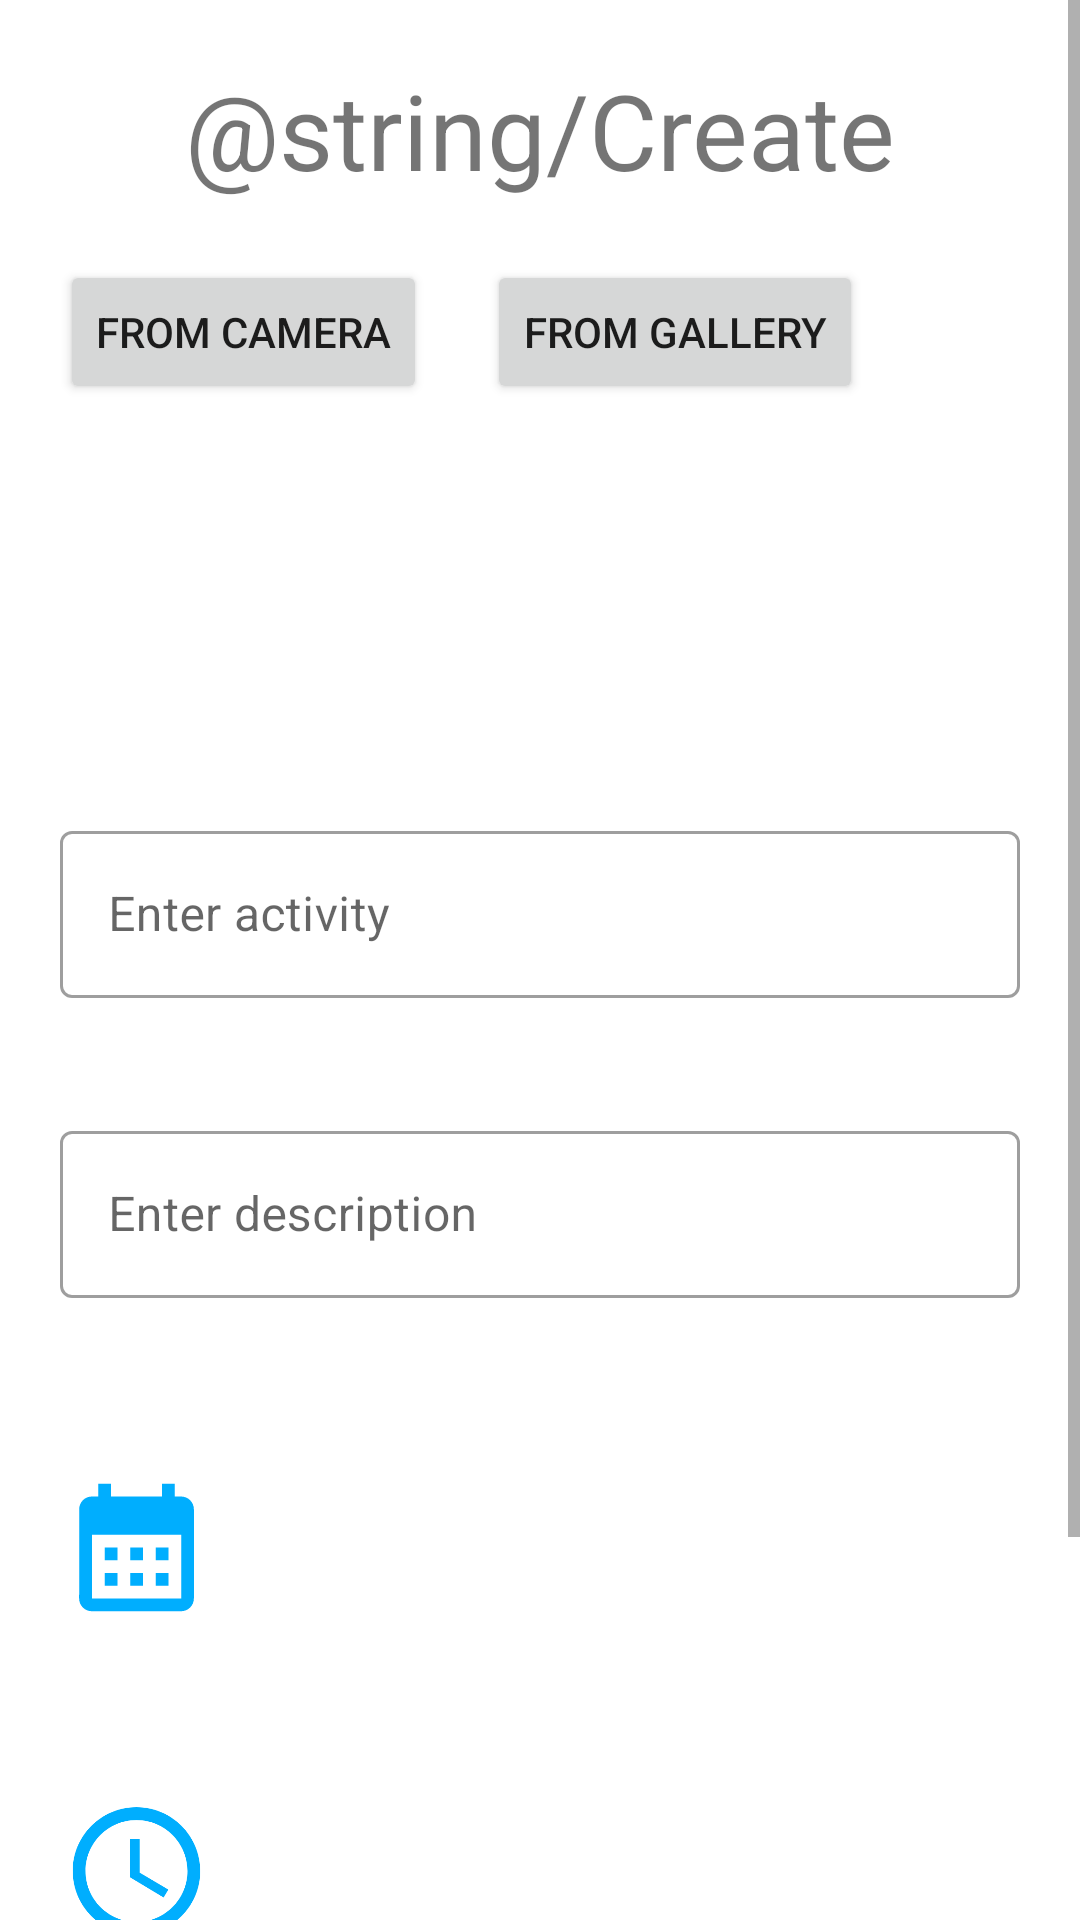

Screen size 1080×1920. Icon name, then its box in pixels as [x1=x1, y1=y1, x2=x2, y2=y2]:
calendar month: [x1=79, y1=1483, x2=194, y2=1612]
